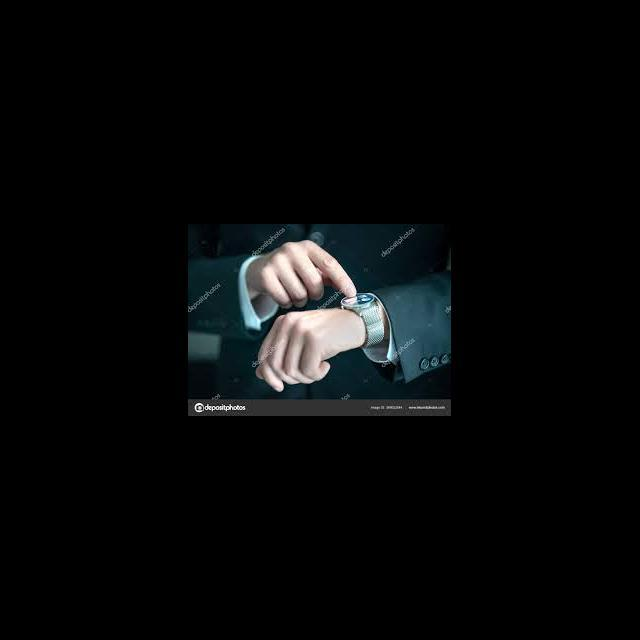watch: (338, 290, 385, 345)
